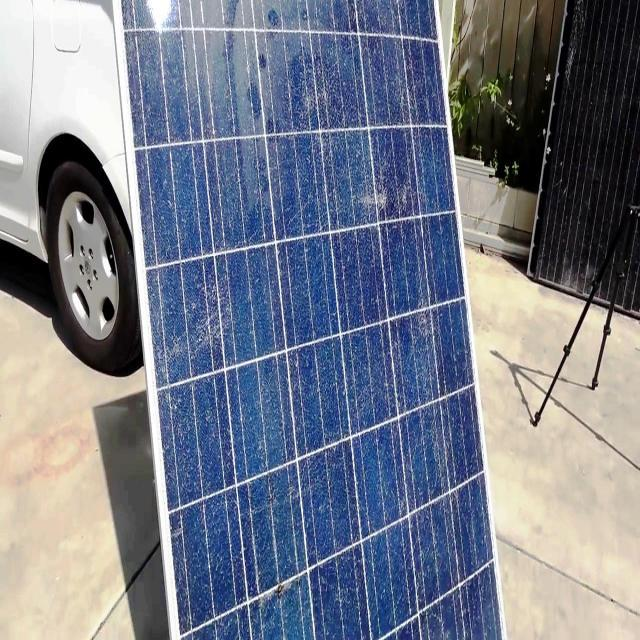faulty: (114, 1, 506, 640)
